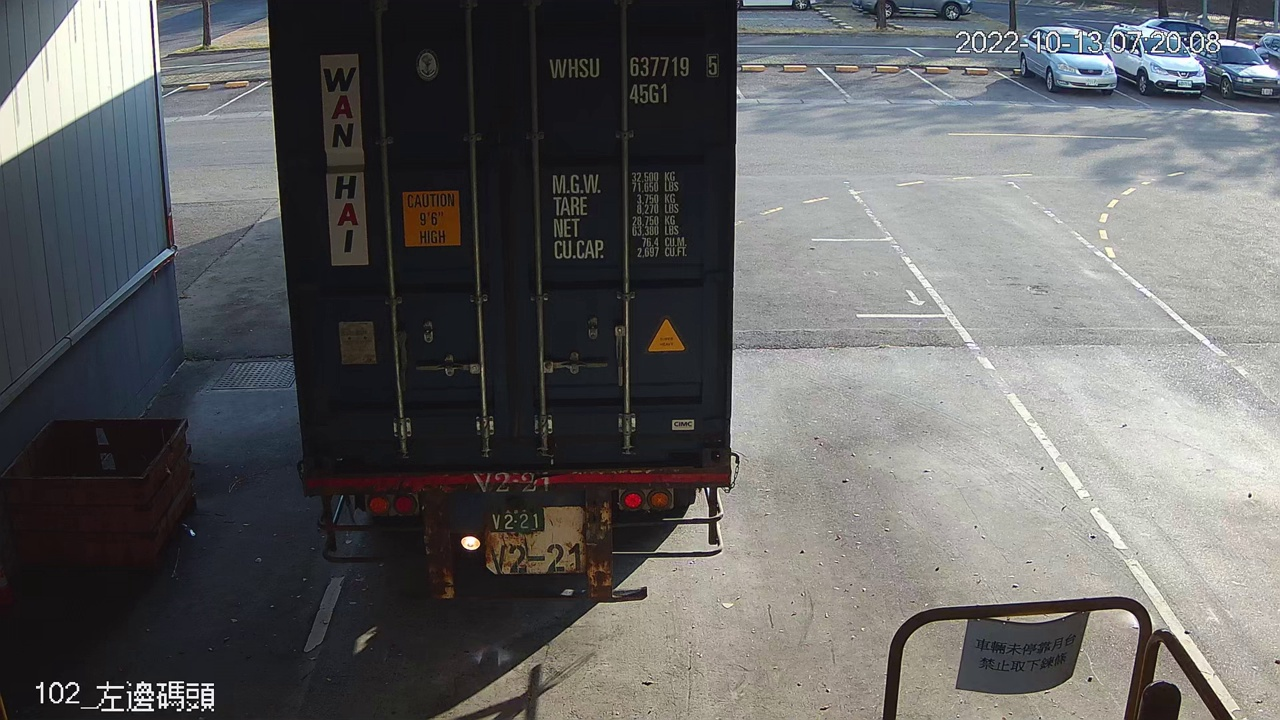container: (542, 46, 726, 110)
